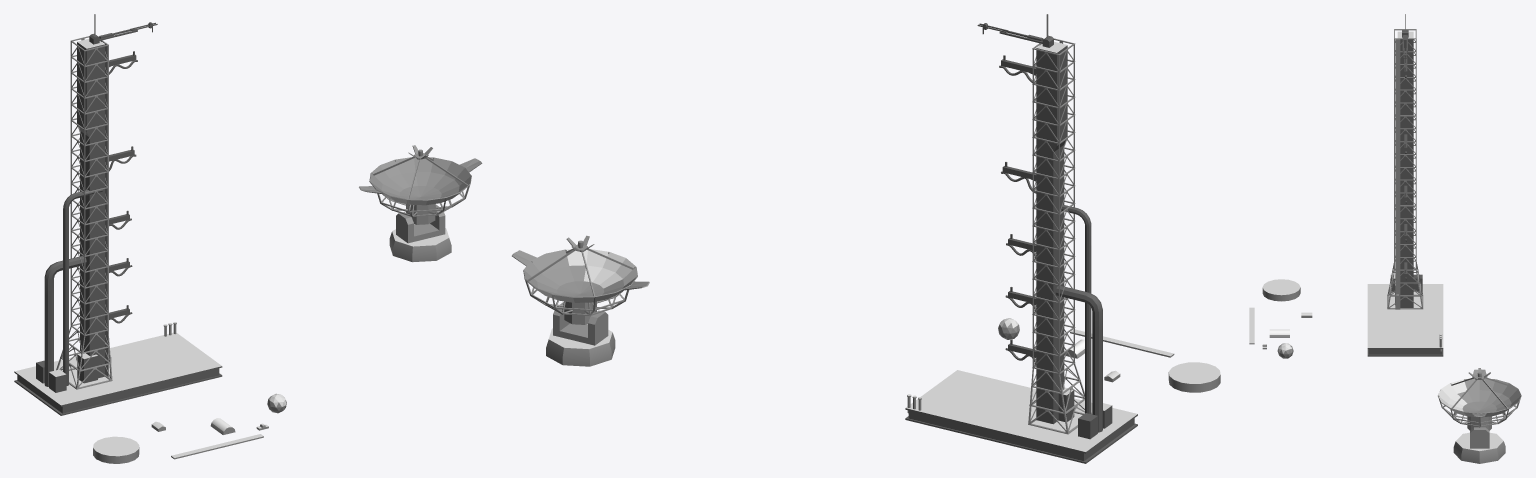
The model's file is LaunchTower.FBX.
3 renders of one model, left to right at view 1: azimuth 30°, elevation 25°; view 2: azimuth 150°, elevation 25°; view 3: azimuth 270°, elevation 25°, orthographic. The views are drawn at different scales.
Visible parts, largest first — view 1: LaunchTower, Radar_Dish, Radar_Bracket, Tank01; view 2: LaunchTower, Radar_Dish, Radar_Bracket, Tank01; view 3: LaunchTower, Radar_Dish, Radar_Bracket, Tank01.
Part boxes in pixels (bbox=[...]): LaunchTower: bbox=[14, 14, 222, 415]; Radar_Dish: bbox=[359, 145, 482, 224]; Radar_Bracket: bbox=[389, 204, 451, 262]; Tank01: bbox=[93, 436, 139, 463]; LaunchTower: bbox=[905, 14, 1137, 463]; Radar_Dish: bbox=[512, 235, 649, 324]; Radar_Bracket: bbox=[546, 302, 615, 366]; Tank01: bbox=[1168, 362, 1220, 392]; LaunchTower: bbox=[1367, 14, 1443, 356]; Radar_Dish: bbox=[1438, 368, 1521, 430]; Radar_Bracket: bbox=[1453, 427, 1505, 463]; Tank01: bbox=[1262, 279, 1300, 301].
Size of the model in its own units: 25126 by 17568 by 14414.
